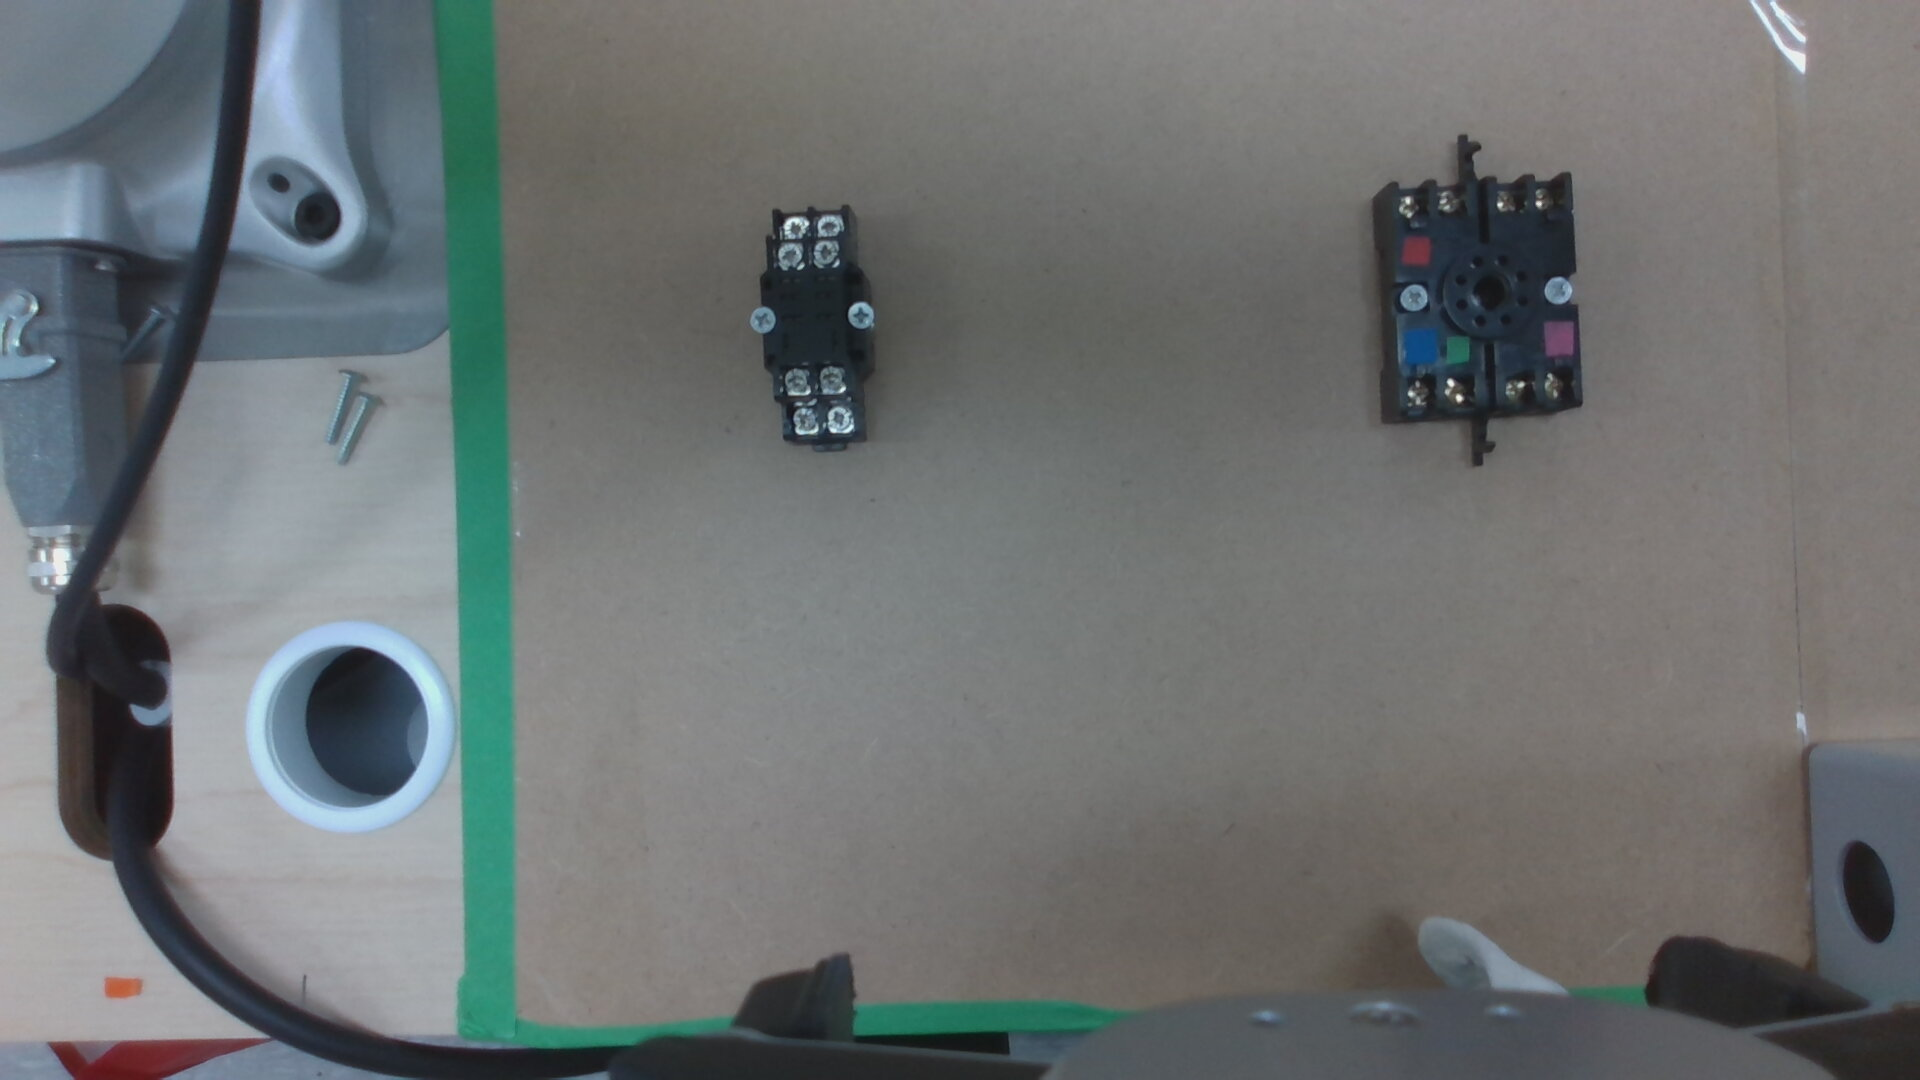relay 3: (814, 215, 841, 236)
relay 4: (779, 218, 806, 237)
relay 5: (825, 407, 853, 433)
relay 6: (789, 410, 816, 431)
relay 7: (818, 369, 843, 392)
relay 8: (781, 367, 808, 390)
